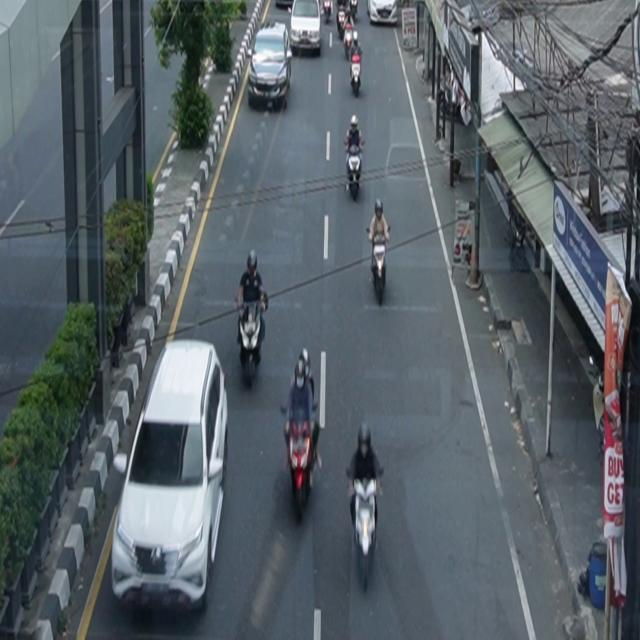car: (112, 339, 229, 614), (248, 21, 293, 113), (289, 1, 322, 57)
